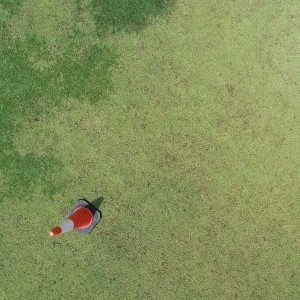traffic cone: (49, 198, 103, 236)
